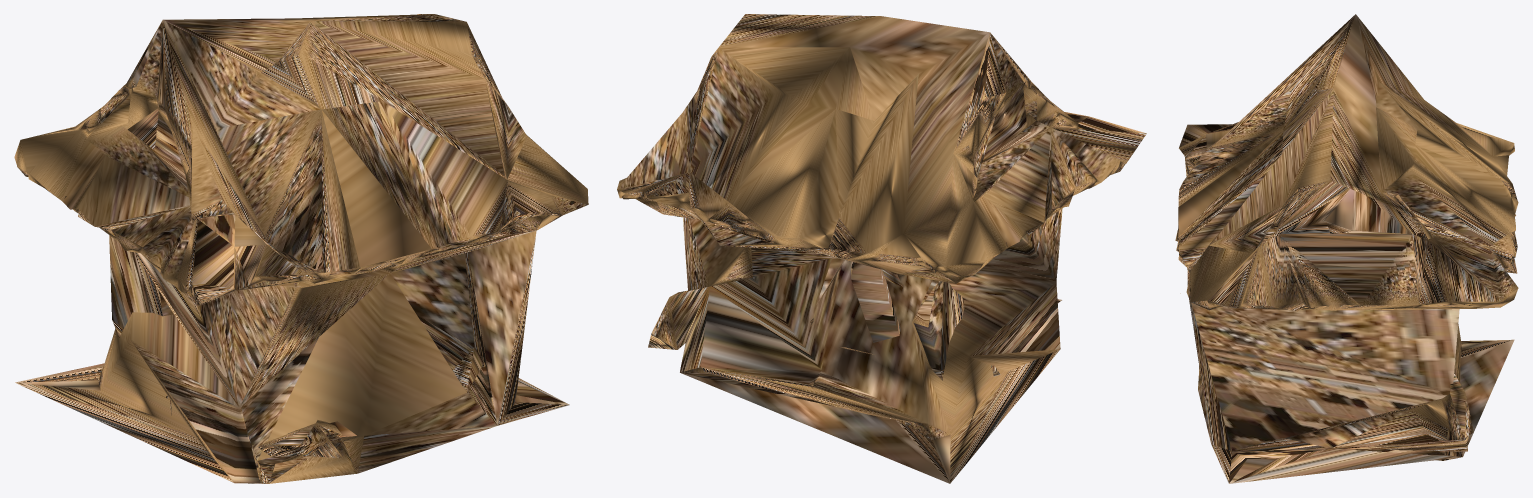
The model's file is A_3D_image_a_a_tradit.glb.
3 renders of one model, left to right at view 1: azimuth 30°, elevation 25°; view 2: azimuth 150°, elevation 25°; view 3: azimuth 270°, elevation 25°, orthographic. The views are drawn at different scales.
Visible parts, largest first — view 1: A_3D_image_a_a_tradit; view 2: A_3D_image_a_a_tradit; view 3: A_3D_image_a_a_tradit.
Part boxes in pixels (x1,y1,x2,y2): A_3D_image_a_a_tradit: (14, 14, 588, 483); A_3D_image_a_a_tradit: (617, 14, 1146, 483); A_3D_image_a_a_tradit: (1175, 14, 1518, 483).
Size of the model in its own units: 1.8 by 1.77 by 1.59.
1 material, 1 textured.
